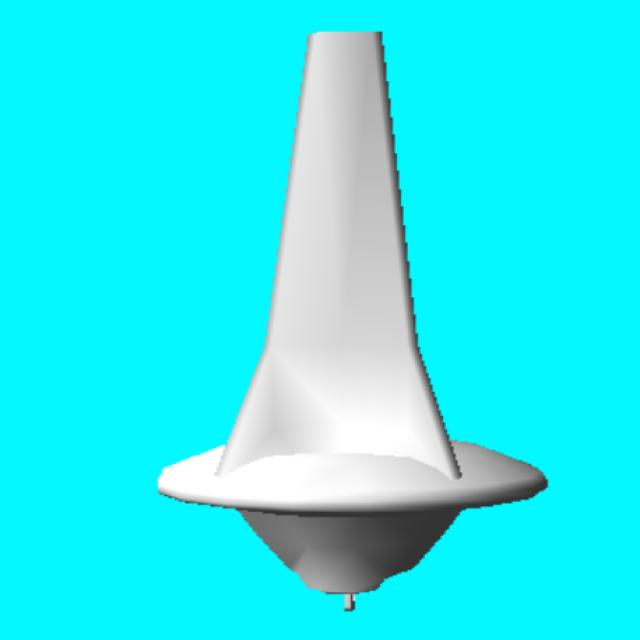WhiteBuoy: (159, 32, 546, 609)
